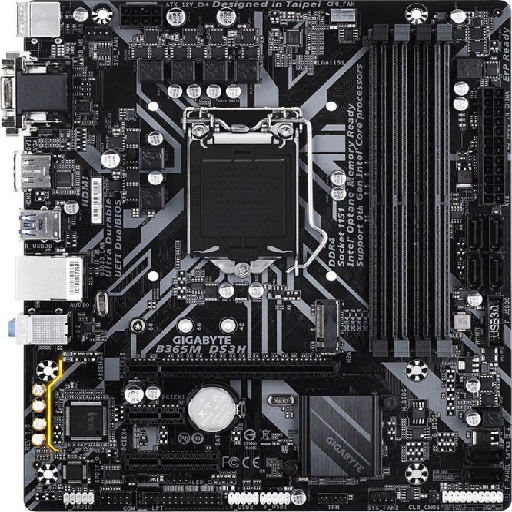GPU: (181, 127, 300, 279), (98, 351, 356, 389)
MOTHERBOARD: (4, 1, 510, 511)
RAM: (363, 22, 457, 363)
SSD: (307, 295, 342, 354)
